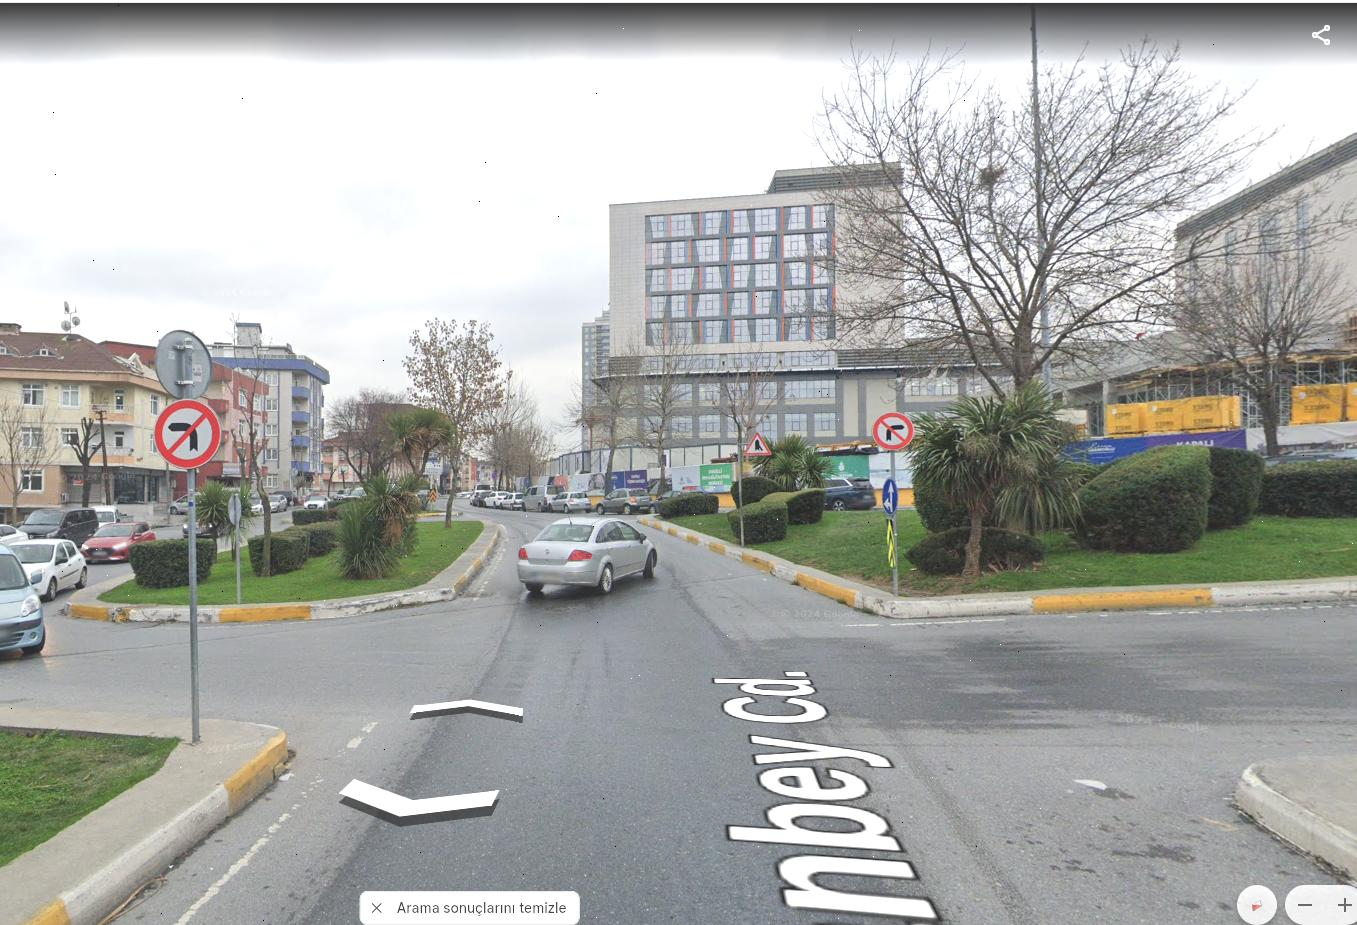leftturnsareforbidden: (159, 403, 218, 466)
rightturnsareforbidden: (876, 415, 909, 448)
